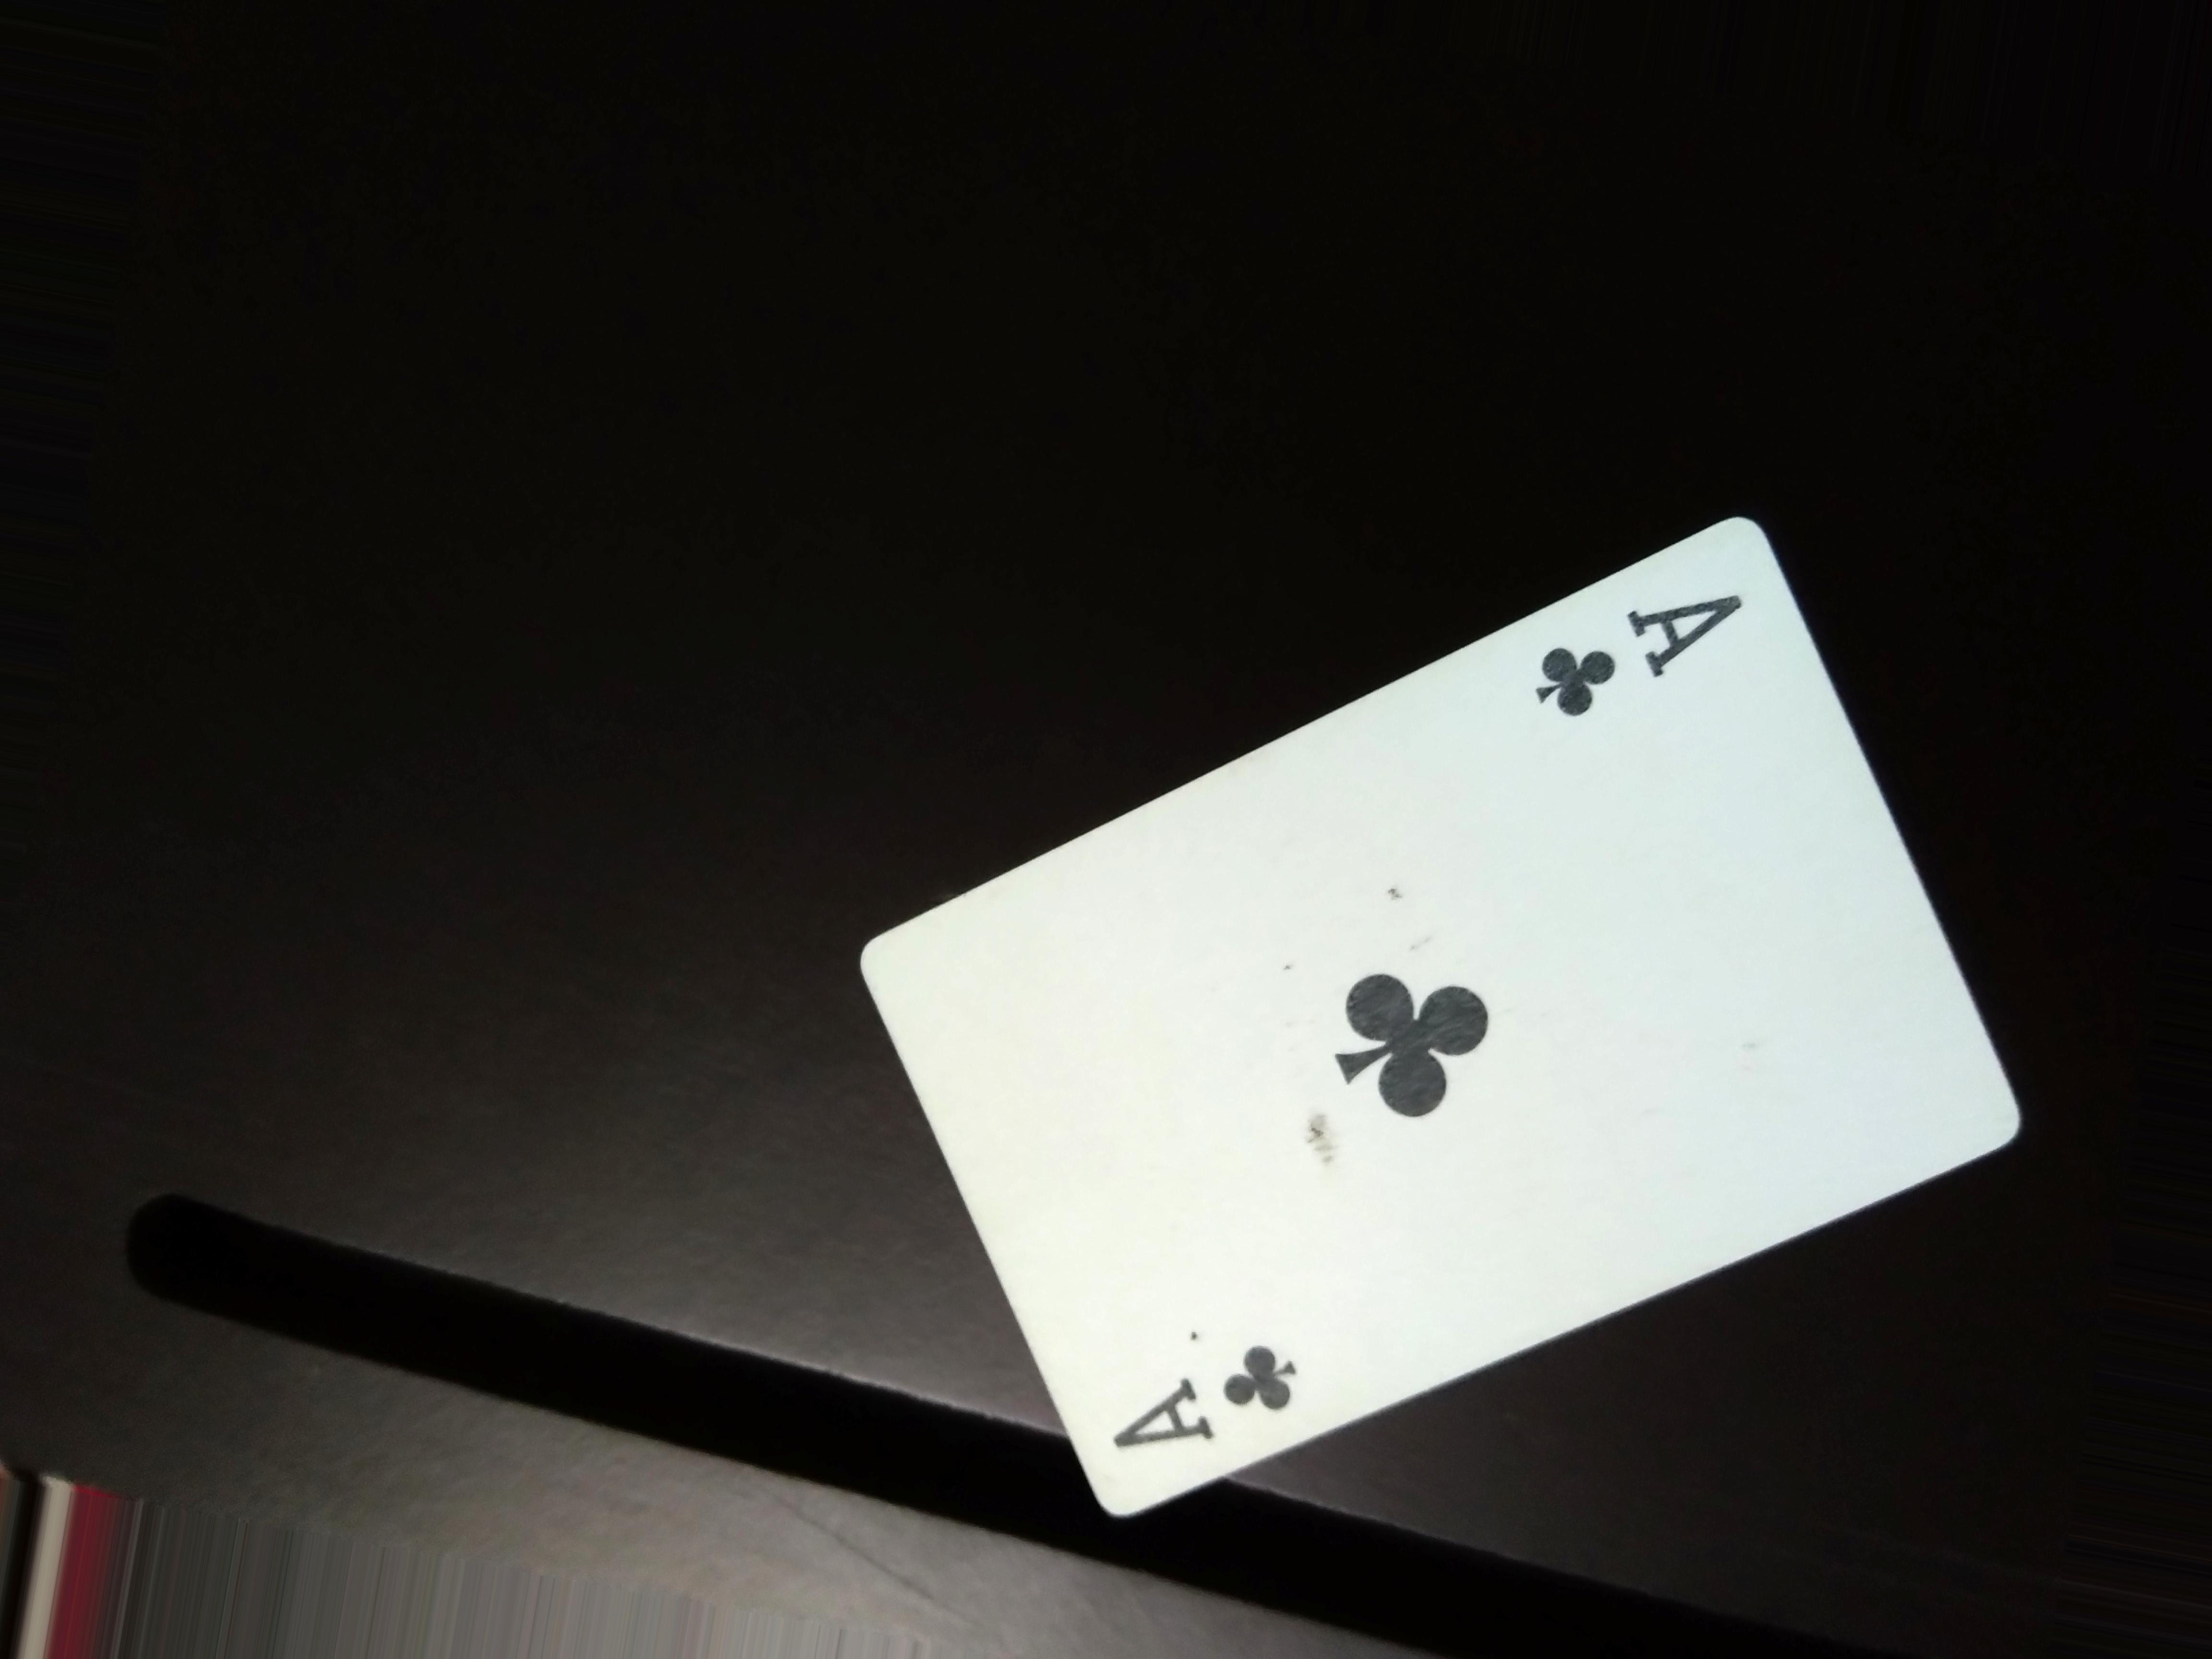AC: (1505, 563, 1749, 734)
